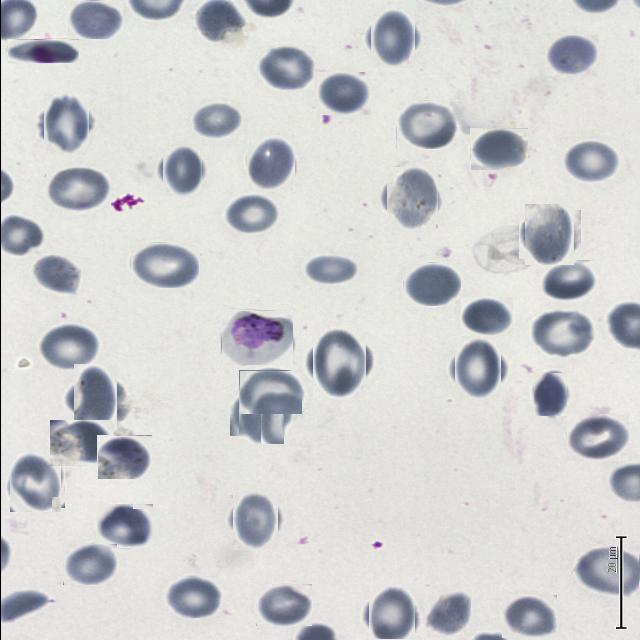red blood cell: (308, 332, 370, 394), (572, 544, 638, 598), (382, 171, 441, 229), (529, 308, 595, 358), (129, 242, 198, 288), (6, 454, 62, 510), (395, 100, 458, 149), (521, 207, 577, 262), (44, 168, 110, 214), (233, 386, 288, 440), (67, 370, 122, 424), (49, 420, 113, 466), (38, 97, 92, 151), (450, 341, 504, 395), (566, 414, 628, 461), (37, 324, 100, 370), (228, 493, 281, 546), (238, 370, 301, 414), (363, 589, 417, 640), (244, 138, 296, 190), (366, 12, 418, 64), (256, 44, 314, 90), (95, 503, 152, 548), (402, 262, 460, 306), (562, 140, 620, 183), (469, 128, 527, 170), (501, 594, 556, 638), (96, 435, 151, 479), (255, 583, 311, 626), (164, 576, 221, 618), (316, 72, 370, 115), (543, 34, 598, 76), (540, 260, 596, 301), (223, 194, 280, 234), (62, 543, 116, 585), (424, 590, 471, 638), (29, 253, 82, 295), (66, 0, 122, 39), (158, 148, 204, 194), (189, 102, 243, 140), (460, 297, 512, 336), (302, 251, 357, 286), (6, 39, 78, 63), (533, 373, 566, 416)
trophozoite: (220, 310, 292, 365)
